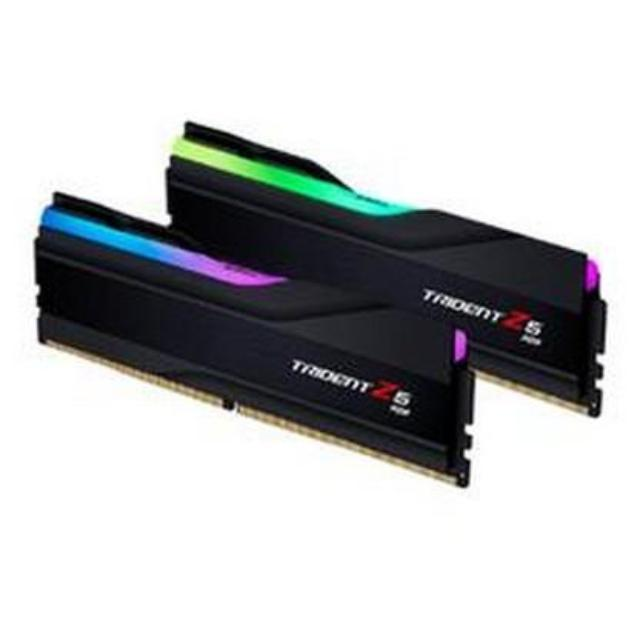RAM: (25, 102, 620, 502)
